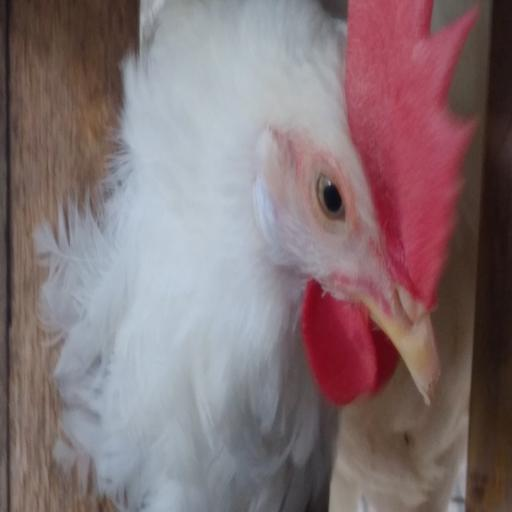healthy: (278, 64, 428, 317)
